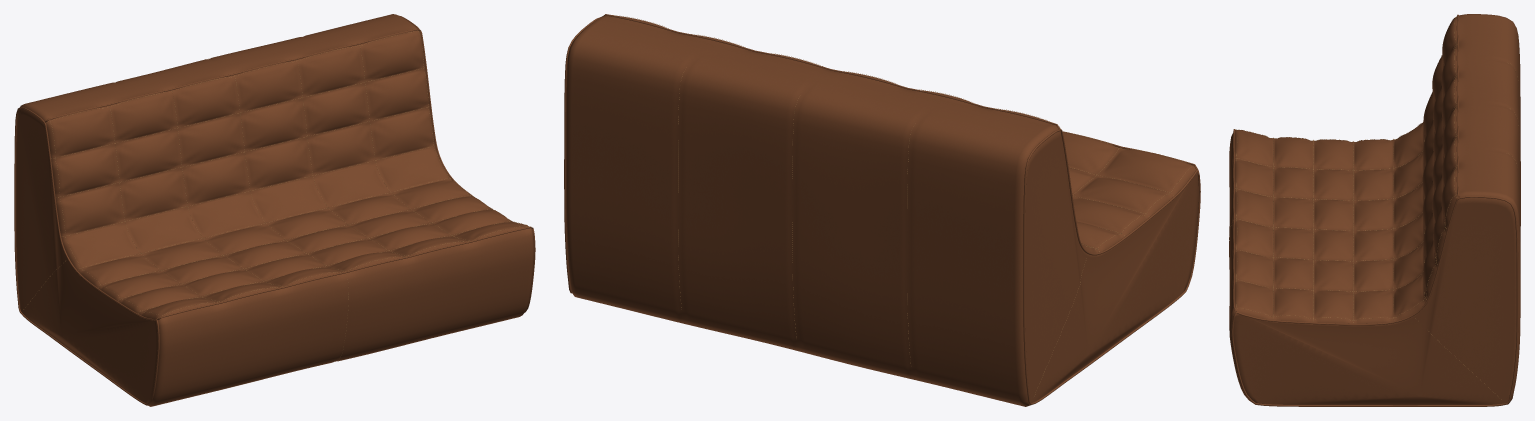
The model's file is cognac-sofa.glb.
3 views of the same model, side by side, from view 1: azimuth 30°, elevation 25°; view 2: azimuth 150°, elevation 25°; view 3: azimuth 270°, elevation 25° (orthographic). The views are drawn at different scales.
Visible parts, largest first — view 1: 01 Upholstery | continuous quad body.001, 02 Left | leather perimeter welt.001, 04 Stitching | quilt grid, borders and panel joins.001, 03 Front seat edge | leather piping.001, 03 Back top edge | leather piping.001, 02 Right | leather perimeter welt.001; view 2: 01 Upholstery | continuous quad body.001, 02 Left | leather perimeter welt.001, 03 Back top edge | leather piping.001, 04 Stitching | quilt grid, borders and panel joins.001, 02 Right | leather perimeter welt.001; view 3: 01 Upholstery | continuous quad body.001, 02 Right | leather perimeter welt.001, 04 Stitching | quilt grid, borders and panel joins.001, 03 Back top edge | leather piping.001, 03 Front seat edge | leather piping.001.
Boxes of the visible parts, bbox=[...] form: 01 Upholstery | continuous quad body.001: bbox=[16, 14, 534, 406]; 02 Left | leather perimeter welt.001: bbox=[14, 107, 159, 405]; 04 Stitching | quilt grid, borders and panel joins.001: bbox=[23, 30, 528, 360]; 03 Front seat edge | leather piping.001: bbox=[157, 226, 533, 320]; 03 Back top edge | leather piping.001: bbox=[45, 28, 420, 122]; 02 Right | leather perimeter welt.001: bbox=[400, 16, 535, 312]; 01 Upholstery | continuous quad body.001: bbox=[565, 15, 1198, 406]; 02 Left | leather perimeter welt.001: bbox=[1023, 129, 1200, 405]; 03 Back top edge | leather piping.001: bbox=[601, 14, 1060, 129]; 04 Stitching | quilt grid, borders and panel joins.001: bbox=[612, 15, 1196, 394]; 02 Right | leather perimeter welt.001: bbox=[564, 17, 600, 293]; 01 Upholstery | continuous quad body.001: bbox=[1229, 14, 1520, 406]; 02 Right | leather perimeter welt.001: bbox=[1231, 196, 1518, 406]; 04 Stitching | quilt grid, borders and panel joins.001: bbox=[1229, 16, 1518, 399]; 03 Back top edge | leather piping.001: bbox=[1456, 14, 1459, 197]; 03 Front seat edge | leather piping.001: bbox=[1233, 129, 1236, 311].
Bounding box in the file's own units: 1.46 × 0.7951 × 0.9781.
Materials: 2 (1 with a texture image).
